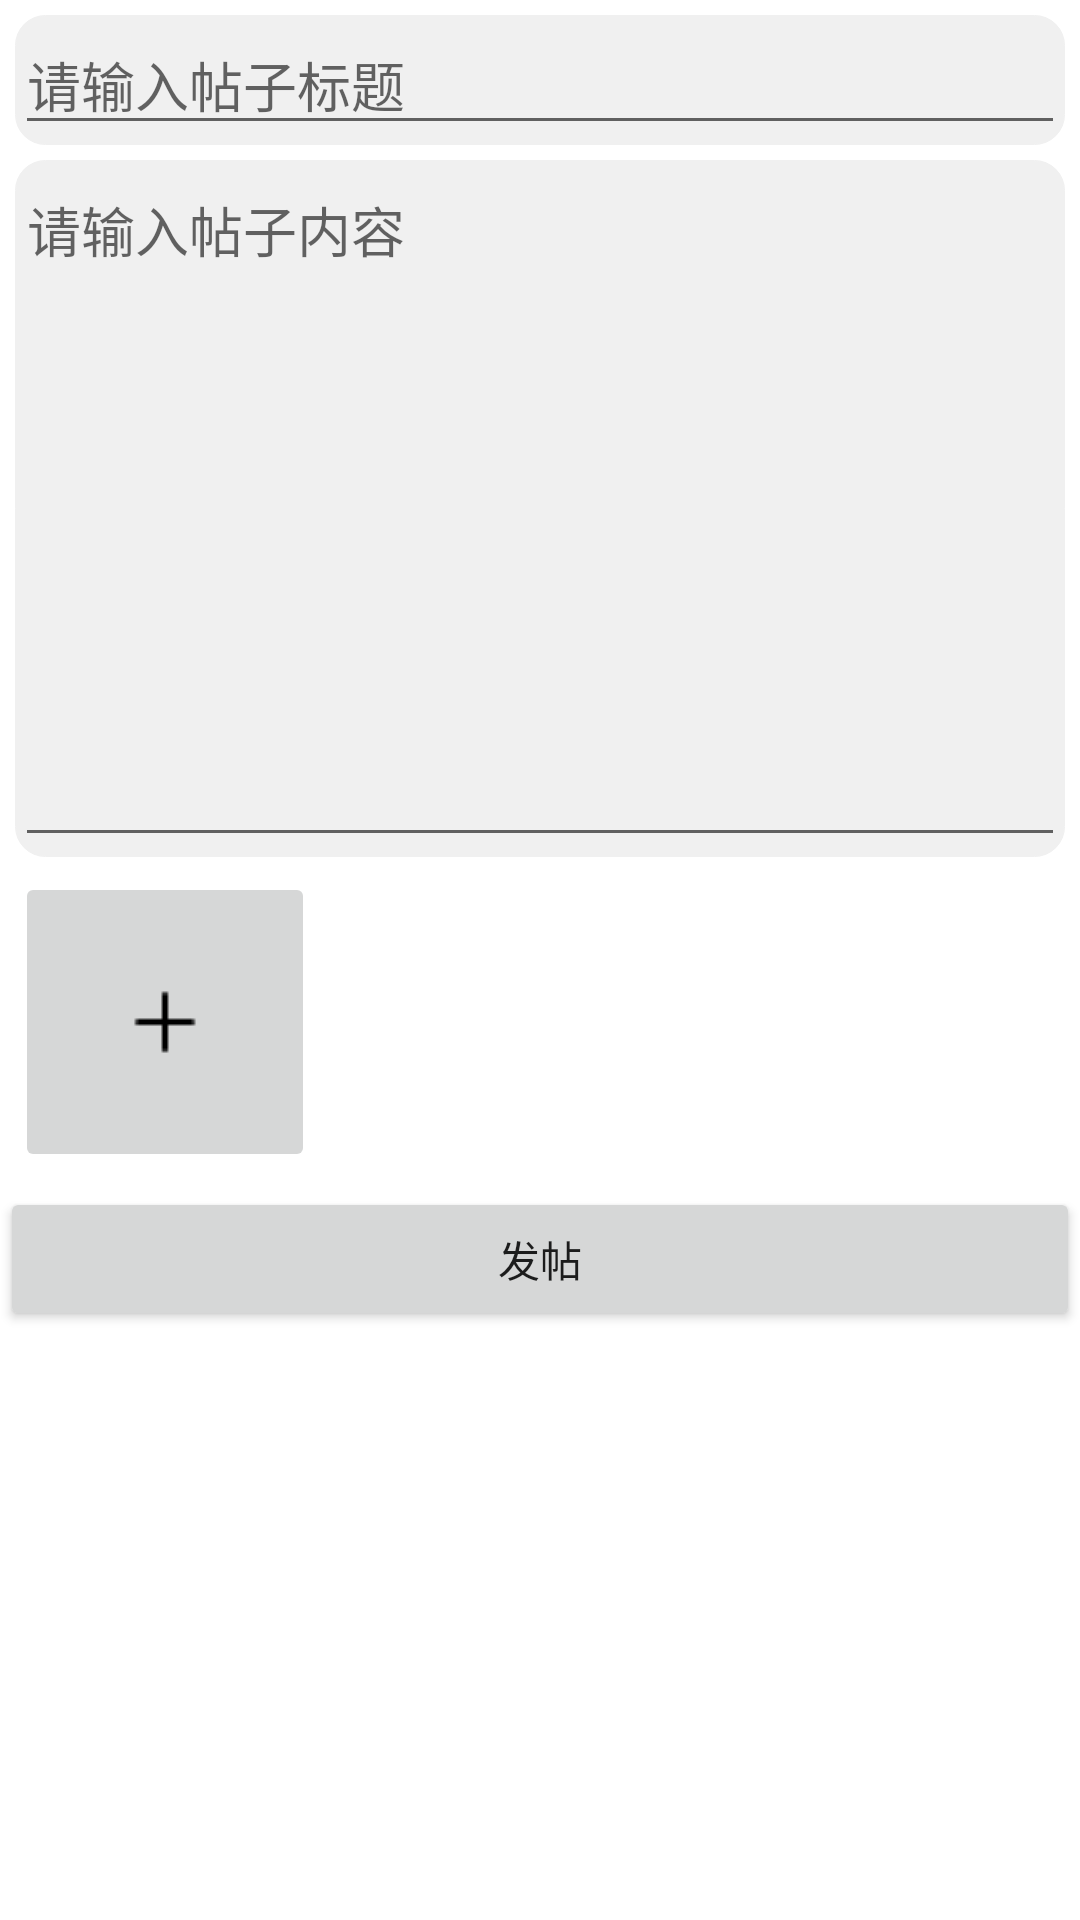

Locate icon controls on the screen. Image size 1080*1920, boxes as bbox=(x1, y1, x2, y2).
add: bbox=(27, 890, 303, 1154)
